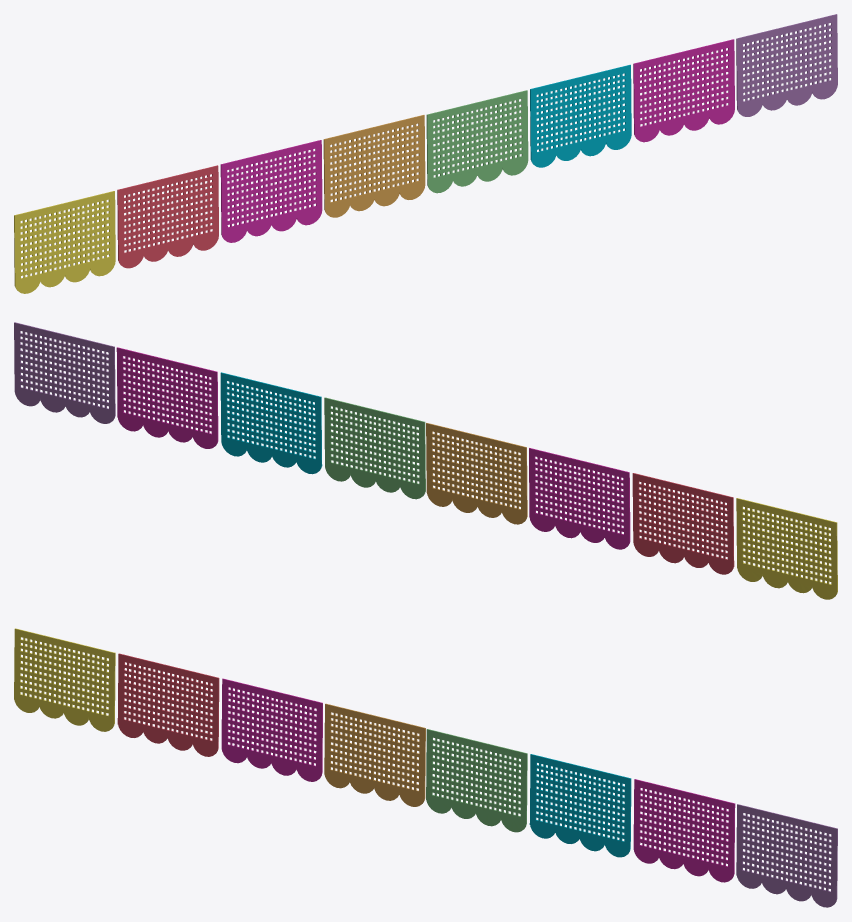
Rendered from papel.glb.
3 renders of one model, top to bottom at view 1: azimuth 30°, elevation 25°; view 2: azimuth 150°, elevation 25°; view 3: azimuth 330°, elevation 25°, orthographic.
Visible parts, largest first — view 1: Mesh_Mesh_head_geo.001_lambert2SG.001; view 2: Mesh_Mesh_head_geo.001_lambert2SG.001; view 3: Mesh_Mesh_head_geo.001_lambert2SG.001.
Part boxes in pixels (x1=…): Mesh_Mesh_head_geo.001_lambert2SG.001: x1=14, y1=14, x2=837, y2=293; Mesh_Mesh_head_geo.001_lambert2SG.001: x1=14, y1=322, x2=837, y2=599; Mesh_Mesh_head_geo.001_lambert2SG.001: x1=14, y1=628, x2=837, y2=907.
Size of the model in its own units: 334 by 31.36 by 1.37.
